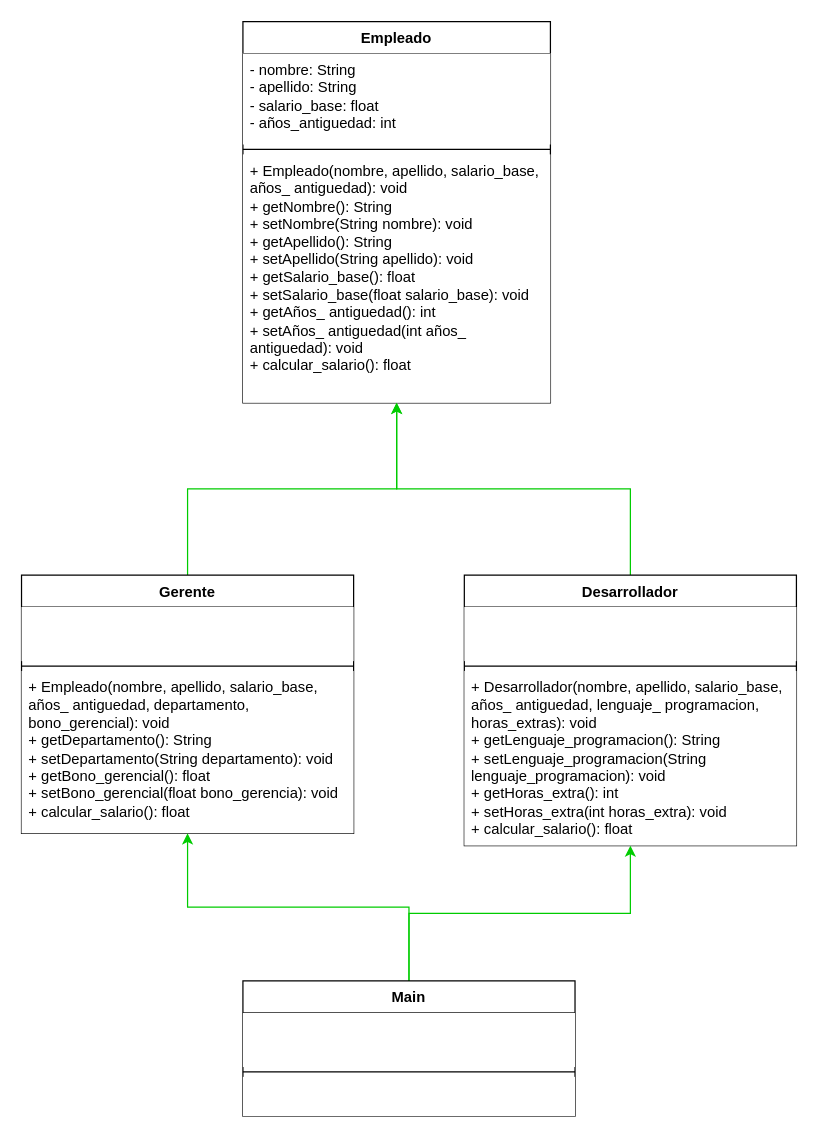
Some shapes in this 818 by 1141 pixel diagram are drawn without their labels. The shapes that lost their labels are listed below. From the top down, each one's box as (x1, y1, x2, y2) in pixels, then its label:
(21, 606, 353, 661): - departamento: String - bono_gerencial: float
(464, 606, 796, 661): - lenguaje_programacion: String - horas_extras: int
(242, 1012, 574, 1066): _+_ desarrolladores: List<Desarrollador> _+_ gerentes: List<Gerente>
(242, 1076, 574, 1116): _+_ main(String[] arg): void
